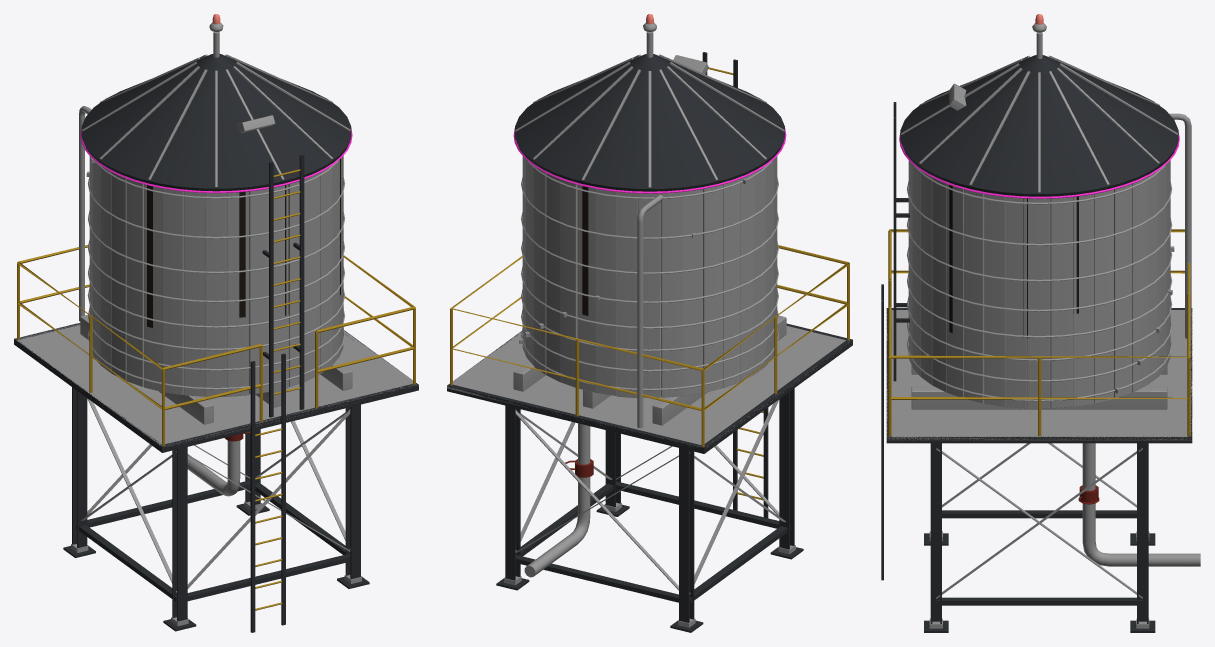
File: Water_Tower_Roof.fbx
The picture shows the model from 3 angles, left to right: view 1: azimuth 30°, elevation 25°; view 2: azimuth 150°, elevation 25°; view 3: azimuth 270°, elevation 25°; orthographic projection. The views are drawn at different scales.
Parts seen in each view (by area): view 1: Water_Tower_Roof_LOD0; view 2: Water_Tower_Roof_LOD0; view 3: Water_Tower_Roof_LOD0.
Part boxes in pixels (x1=…): Water_Tower_Roof_LOD0: x1=14, y1=14, x2=418, y2=632; Water_Tower_Roof_LOD0: x1=447, y1=14, x2=852, y2=632; Water_Tower_Roof_LOD0: x1=881, y1=14, x2=1200, y2=632.
Size of what is drawn, in the model's own units: 3.7 by 7.61 by 3.87.
